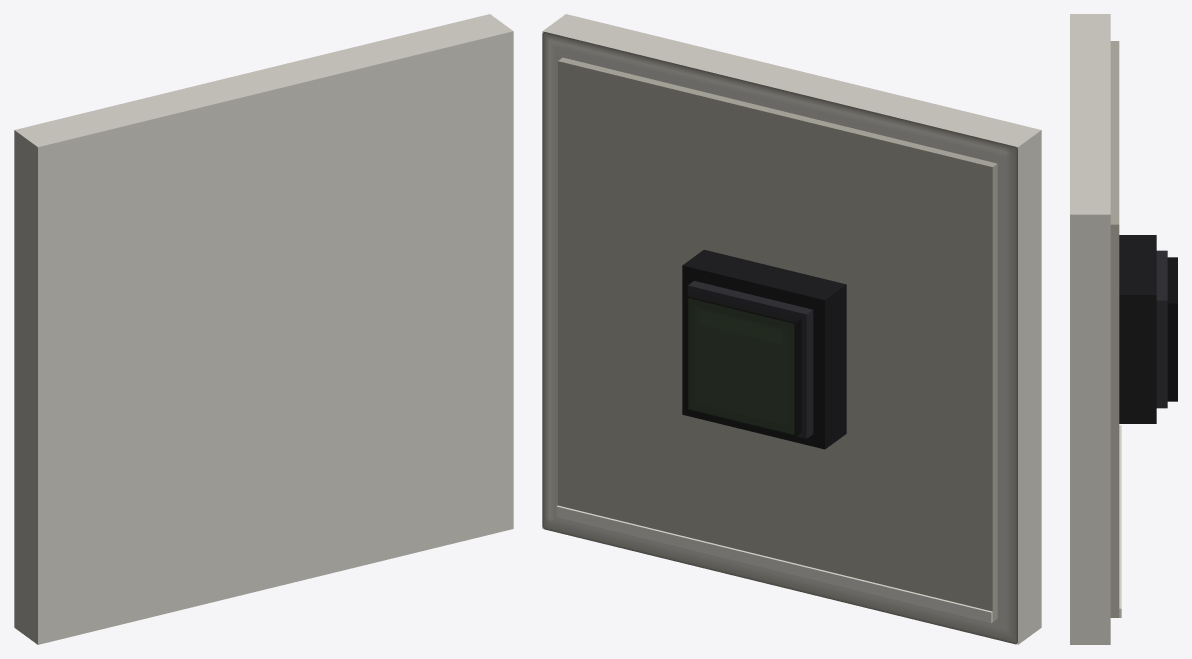
The model's file is indicator_green_off.obj.
The picture shows the model from 3 angles, left to right: view 1: azimuth 30°, elevation 25°; view 2: azimuth 150°, elevation 25°; view 3: azimuth 270°, elevation 25°; orthographic projection. The views are drawn at different scales.
Visible parts, largest first — view 1: Panel; view 2: Panel, Lamp; view 3: Panel, Lamp.
Boxes of the visible parts, x1,y1,x2,y2 form: Panel: (14,14,513,644); Panel: (542,14,1041,644); Lamp: (682,249,846,449); Panel: (1070,14,1121,644); Lamp: (1119,235,1177,423).
Bounding box in the file's own units: 0.875 × 0.875 × 0.1988.
1 material, 1 textured.
